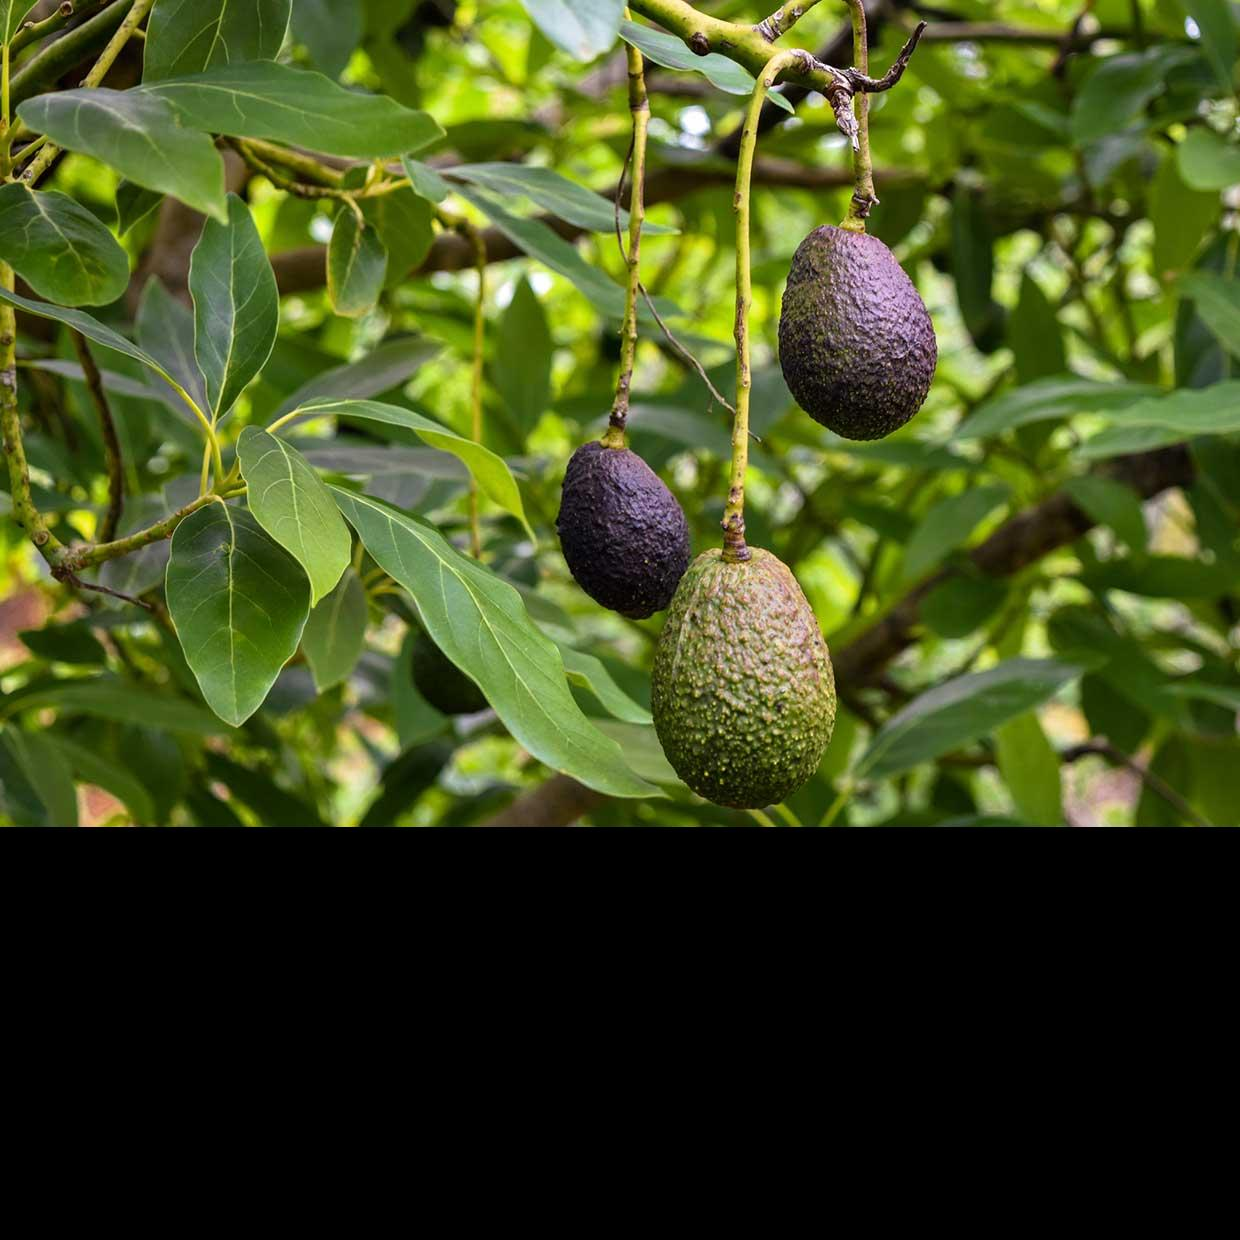ripe: (778, 225, 937, 442), (558, 442, 690, 621)
unripe: (652, 544, 837, 812)
